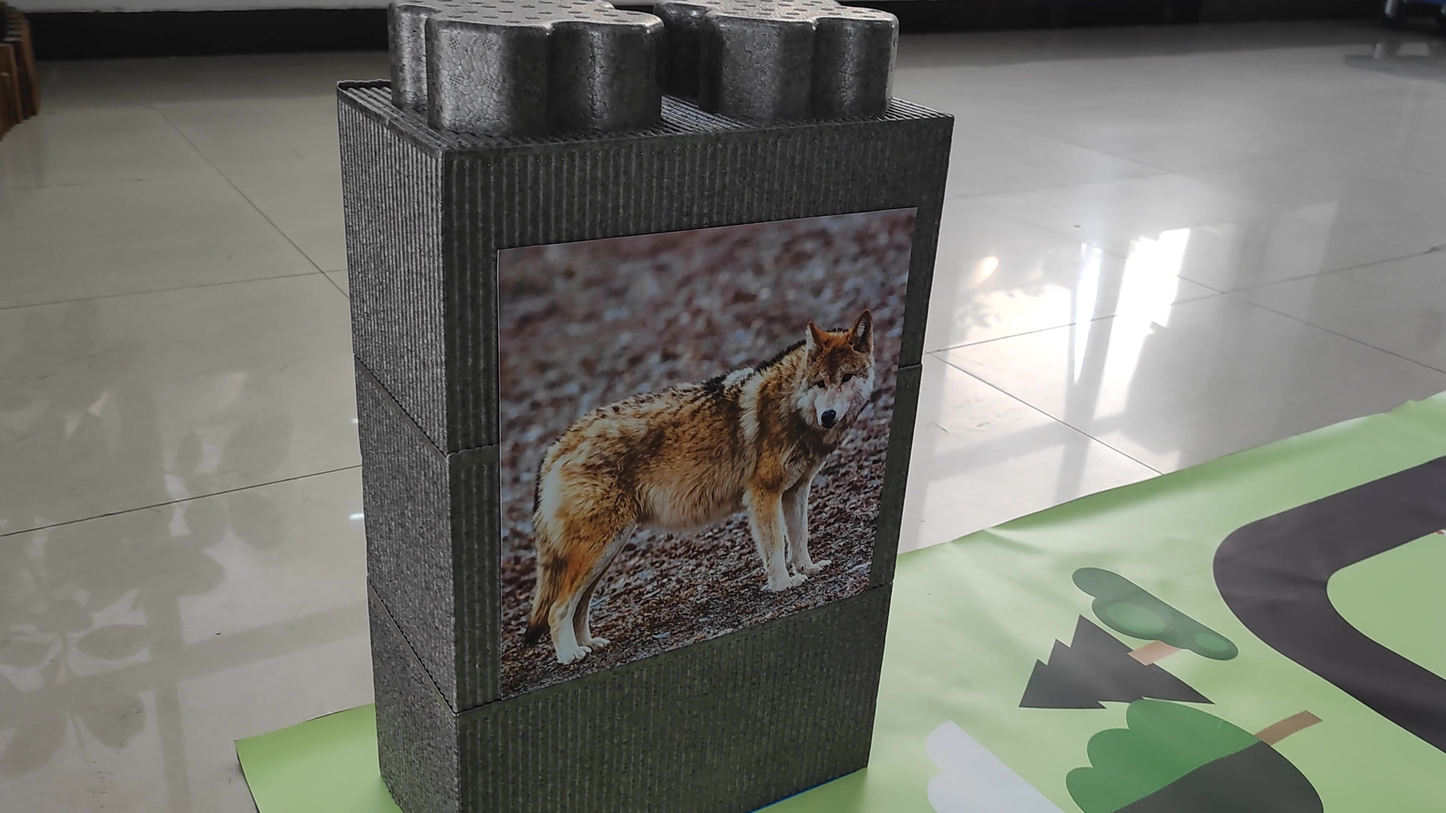wolf: (490, 279, 886, 658)
